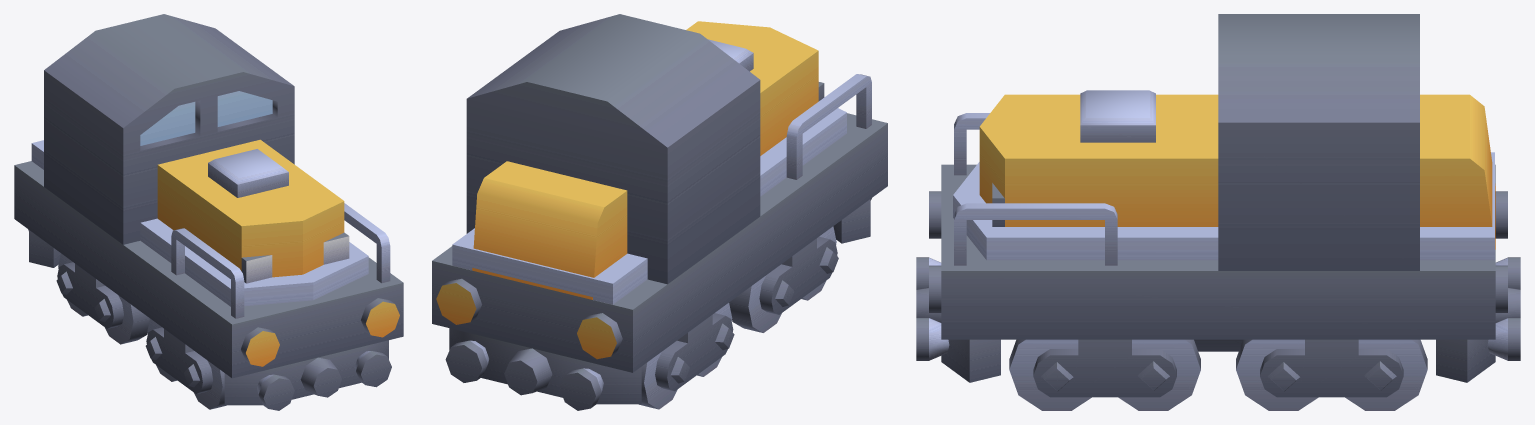
The model's file is train-diesel-c.glb.
The picture shows the model from 3 angles, left to right: view 1: azimuth 30°, elevation 25°; view 2: azimuth 150°, elevation 25°; view 3: azimuth 270°, elevation 25°; orthographic projection. The views are drawn at different scales.
Parts seen in each view (by area): view 1: train-diesel-c, wheels-back, wheels-front; view 2: train-diesel-c, wheels-front, wheels-back; view 3: train-diesel-c, wheels-front, wheels-back.
Boxes of the visible parts, x1,y1,x2,y2 form: train-diesel-c: (14,14,403,410); wheels-back: (56,253,149,344); wheels-front: (145,318,226,409); train-diesel-c: (432,14,887,410); wheels-front: (729,226,838,332); wheels-back: (639,303,734,409); train-diesel-c: (916,14,1520,382); wheels-front: (1009,339,1200,410); wheels-back: (1236,339,1427,410).
Size of the model in its own units: 1 by 1.46 by 2.4.
1 material, 1 textured.
